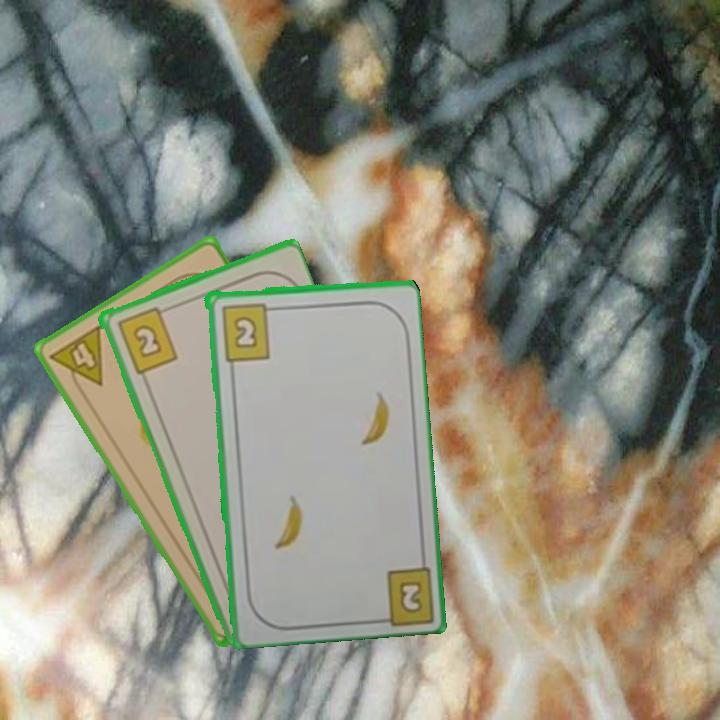2b: (113, 303, 180, 376), (217, 299, 279, 363), (395, 577, 426, 616)
4p: (46, 321, 106, 400)
